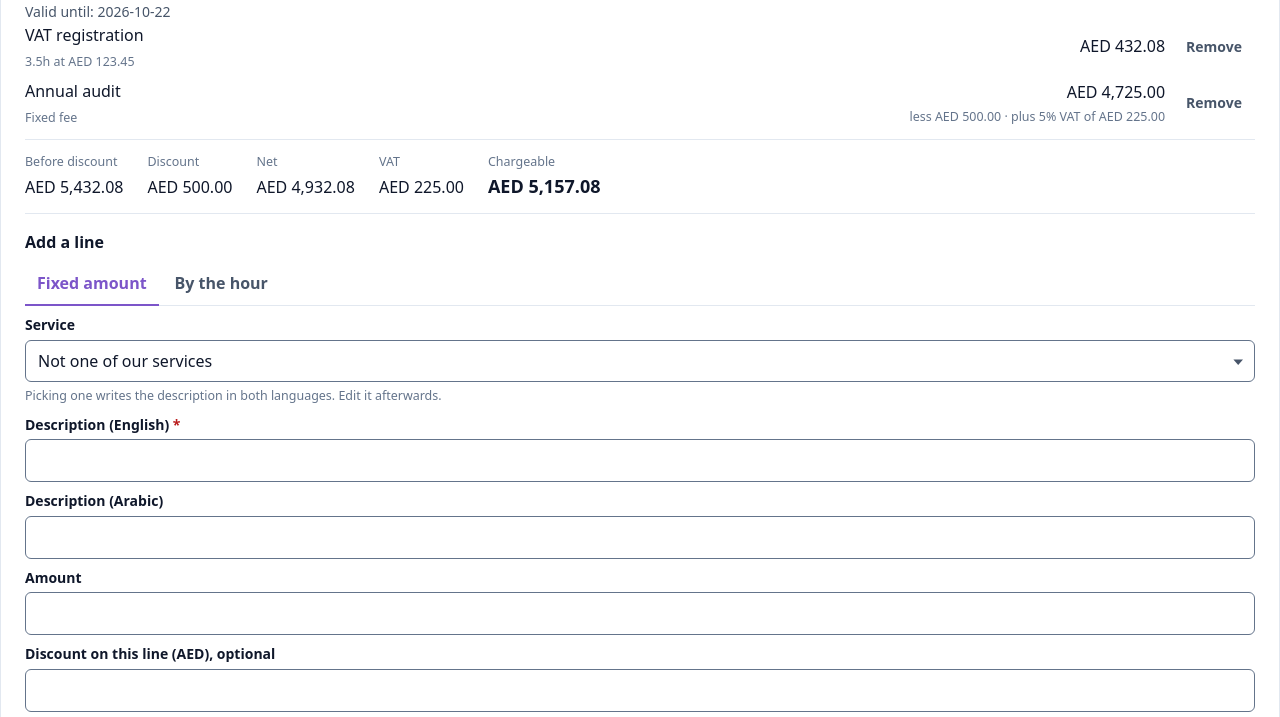
Test case: while it is a draft › picking a service writes the description in both languages
(page scrolled)
Select "VAT return" in the dropdown labelled "Service" at (640, 361), box [25,340,1255,382]
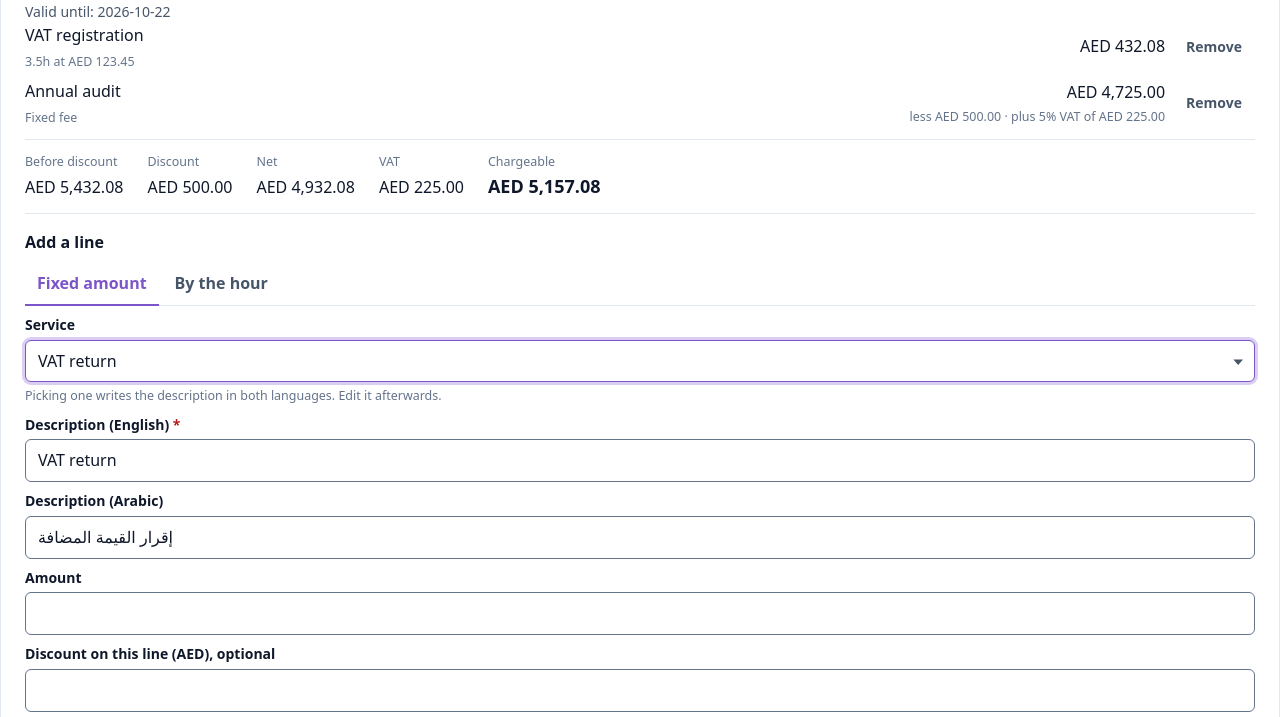
Now the field labelled "Description (English)" holds "VAT return", box [25,439,1255,482]
Now the field labelled "Description (Arabic)" holds "إقرار القيمة المضافة", box [25,516,1255,559]
